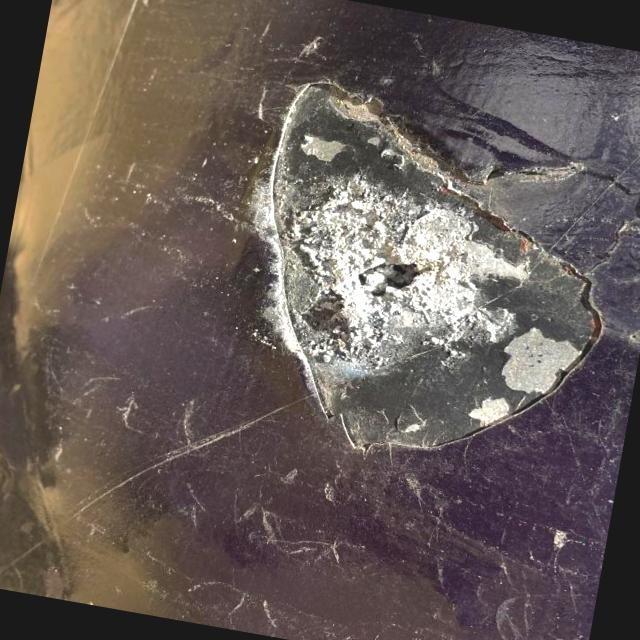dent: (195, 56, 640, 499)
